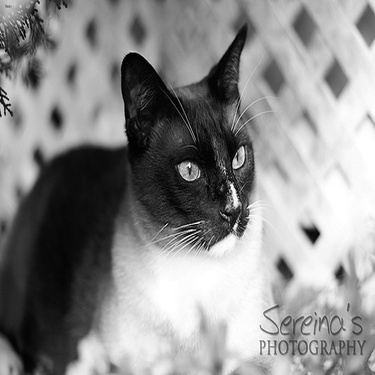cat: (13, 20, 281, 371)
